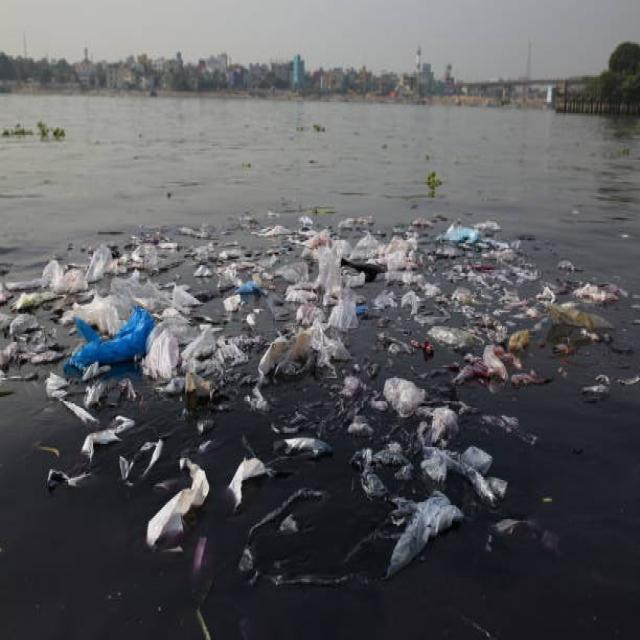trash: (41, 232, 544, 493)
